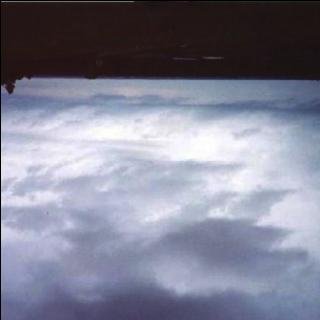Stratus: (0, 91, 320, 320)
